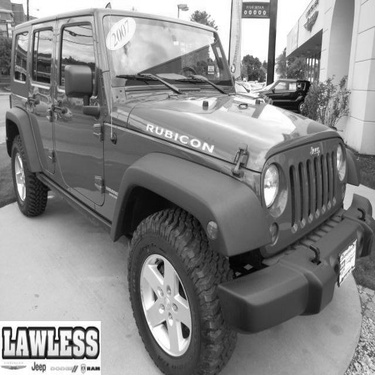car: (7, 4, 371, 372), (249, 67, 318, 116)
